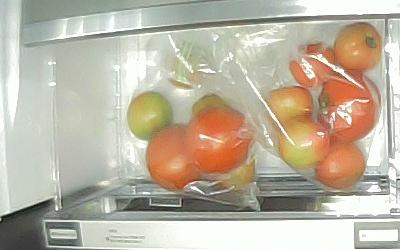tomato_vinyl: (316, 71, 381, 140), (188, 106, 251, 175), (145, 124, 201, 191), (279, 117, 330, 167), (317, 140, 366, 190), (334, 22, 383, 71), (127, 92, 174, 141), (263, 86, 314, 129), (288, 42, 335, 86), (215, 155, 256, 188), (192, 94, 223, 118)
